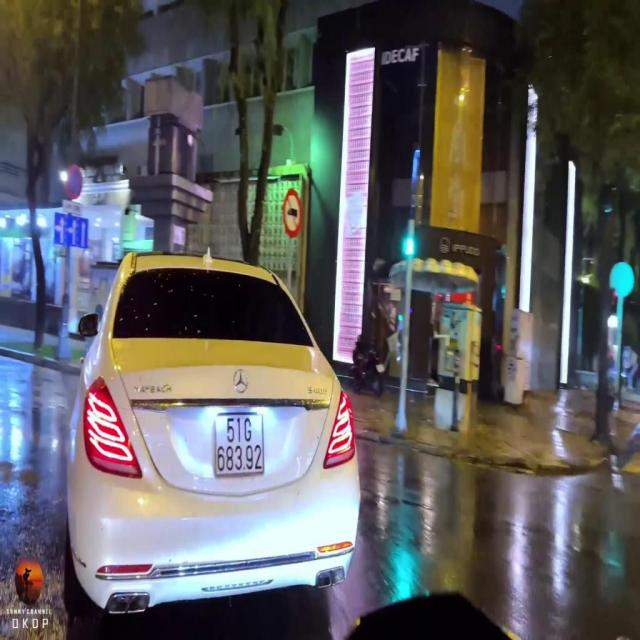cam_do_xe: (67, 164, 82, 200)
cam_o_to_tai: (282, 188, 302, 237)
huong_di_tren_moi_lan_duong_theo_vach_ke_duong: (54, 212, 88, 250)
